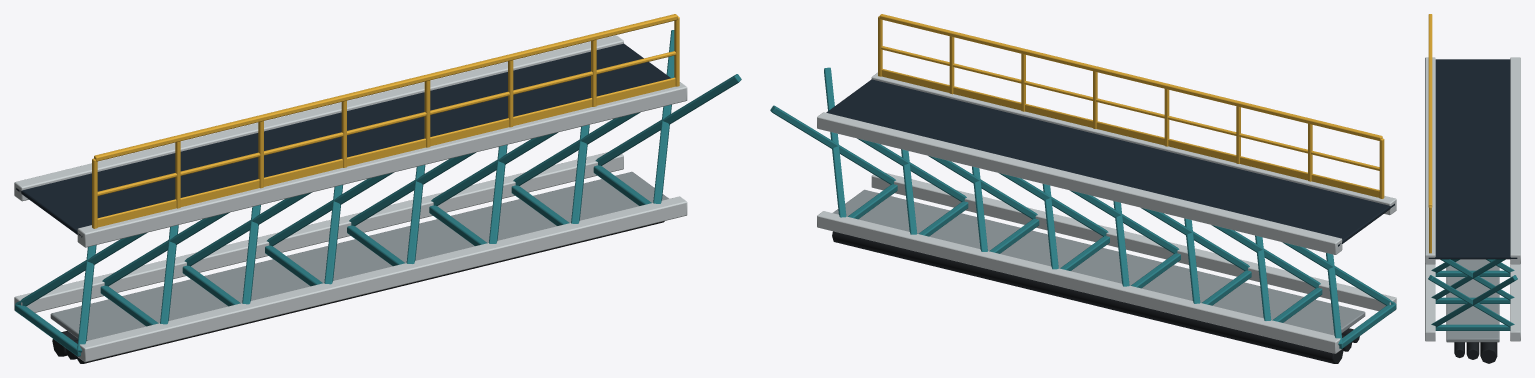
Rendered from hero_umbilical_truss.fbx.
3 views of the same model, side by side, from view 1: azimuth 30°, elevation 25°; view 2: azimuth 150°, elevation 25°; view 3: azimuth 270°, elevation 25° (orthographic). The views are drawn at different scales.
Parts seen in each view (by area): view 1: hero_umbilical_truss; view 2: hero_umbilical_truss; view 3: hero_umbilical_truss.
Part boxes in pixels (x1,y1,x2,y2): hero_umbilical_truss: (14, 14, 741, 363); hero_umbilical_truss: (770, 14, 1396, 363); hero_umbilical_truss: (1425, 14, 1520, 363).
Size of the model in its own units: 9.7 by 3.26 by 1.8.
